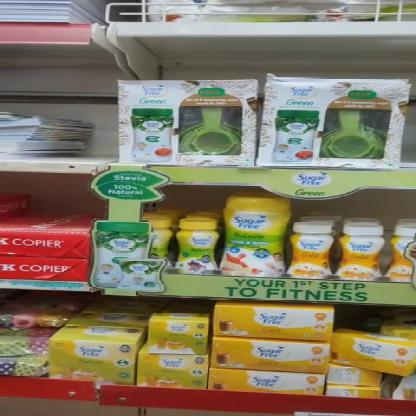SUGAR FREE GOLD POWDER 100GM: (290, 220, 334, 279), (342, 223, 386, 281)
SUGAR FREE NATURA DIET SUGAR 80GM: (219, 196, 287, 274)
SUGAR FREE NATURA SACHET 50: (50, 340, 134, 382), (136, 354, 212, 388), (148, 316, 206, 354)
SUGAR FREE NATURA_ POWDER_CONC_100G: (173, 218, 222, 276)
